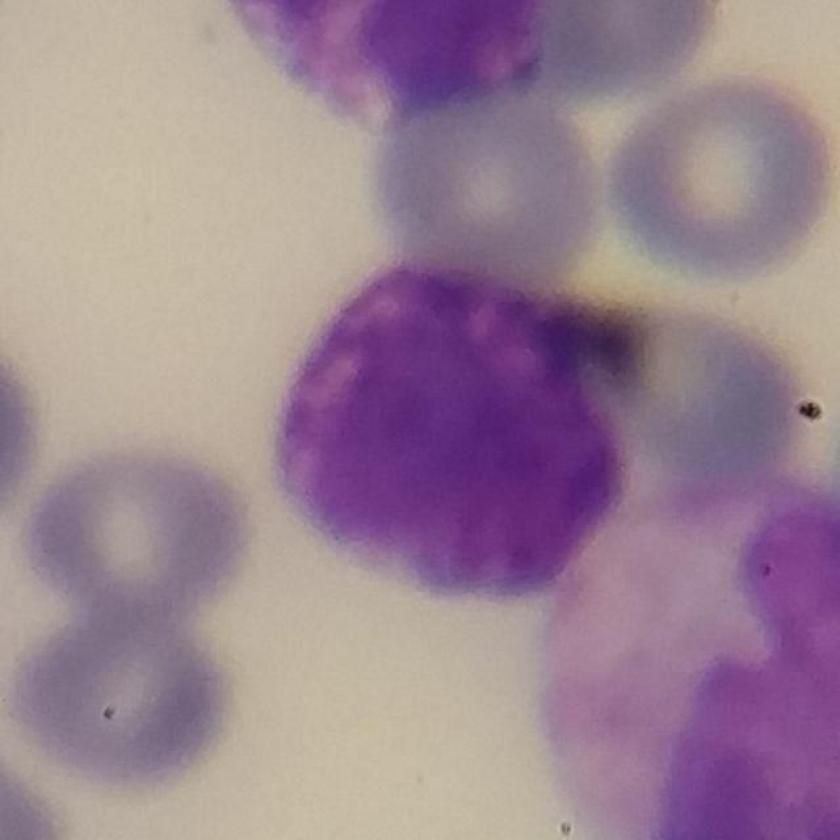basophil: (275, 253, 639, 634)
